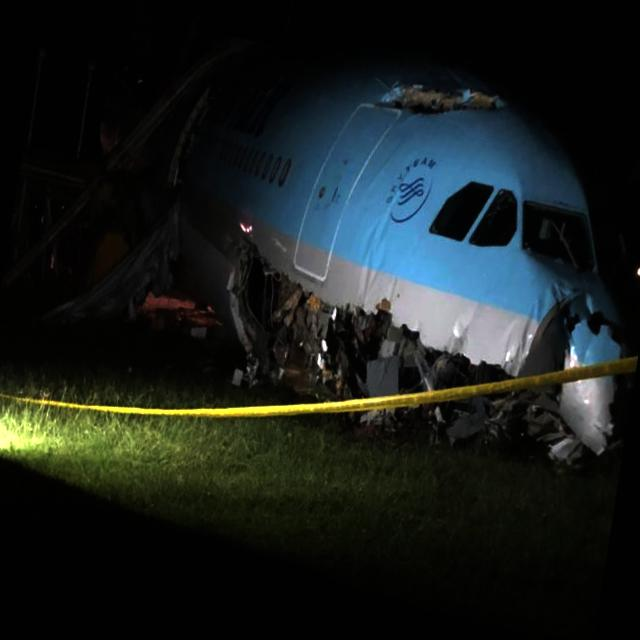crack: (375, 72, 512, 126)
